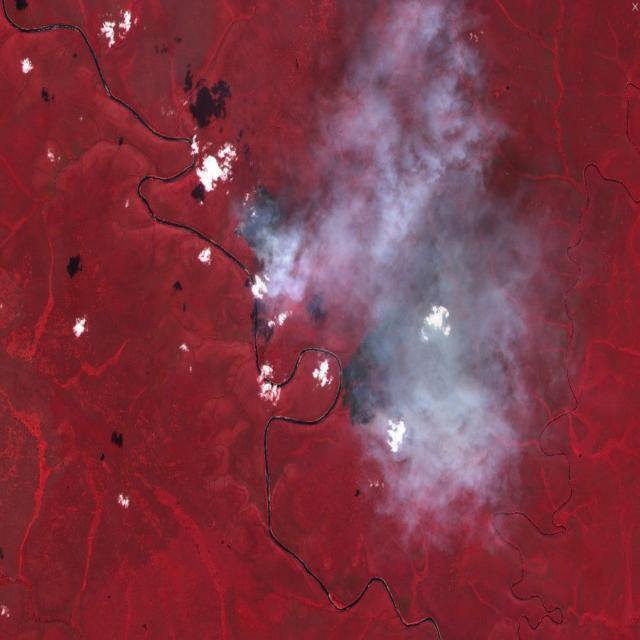fire: (338, 264, 512, 484), (231, 172, 300, 290)
